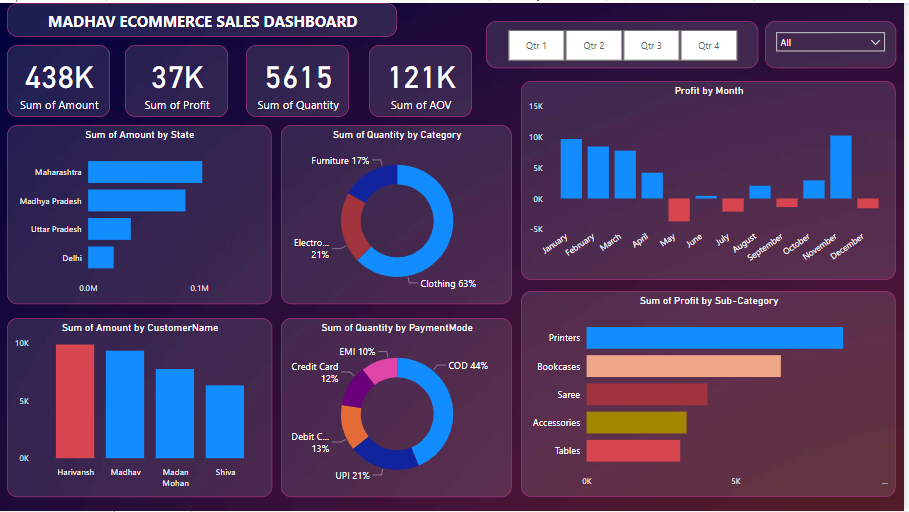

The dashboard page shown, as its layout file describes it:
{"tool":"powerbi","page":{"name":"Page 1","canvas":[1280,720],"ordinal":0},"visuals":[{"type":"textbox","box":[9.9,0,552.8,48.2],"z":0},{"type":"columnChart","title":"Profit by Month","fields":{"Y":["Sum(Details.Profit)"],"Category":["Orders.Order Date.Variation.Date Hierarchy.Month"]},"box":[738.4,110.6,531.5,282],"z":1000},{"type":"barChart","fields":{"Category":["Details.Sub-Category"],"Y":["Sum(Details.Profit)"]},"box":[738.4,408.2,531.5,292],"z":2000},{"type":"donutChart","fields":{"Category":["Details.Category"],"Y":["Sum(Details.Quantity)"]},"box":[398.3,172.9,327.4,253.7],"z":3000},{"type":"donutChart","fields":{"Y":["Sum(Details.Quantity)"],"Category":["Details.PaymentMode"]},"box":[398.3,446.5,327.4,253.7],"z":4000},{"type":"card","fields":{"Values":["Sum(Details.Amount)"]},"box":[9.9,59.5,146,102],"z":5000},{"type":"card","fields":{"Values":["Sum(Details.Profit)"]},"box":[177.2,59.5,146,102],"z":6000},{"type":"card","fields":{"Values":["Sum(Details.Quantity)"]},"box":[348.7,59.5,146,102],"z":7000},{"type":"card","fields":{"Values":["Sum(Details.AOV)"]},"box":[523,59.5,146,102],"z":8000},{"type":"barChart","fields":{"Category":["Orders.State"],"Y":["Sum(Details.Amount)"]},"box":[10.1,173,374.6,253.6],"z":9000},{"type":"columnChart","fields":{"Category":["Orders.CustomerName"],"Y":["Sum(Details.Amount)"]},"box":[9.9,446.5,375.6,253.7],"z":10000},{"type":"slicer","fields":{"Values":["Orders.Order Date.Variation.Date Hierarchy.Quarter"]},"box":[688.8,25.5,385.5,66.6],"z":11000},{"type":"slicer","fields":{"Values":["Orders.State"]},"box":[1084.3,25.5,185.7,66.6],"z":11001}]}

Visuals, with their boxes in screenshot pixels (x1, y1, x2, y2), scaled from the page's 1280x720 canvas onto the 909x512 screenshot:
textbox: <bbox>7, 0, 400, 34</bbox>
"Profit by Month" columnChart: <bbox>524, 79, 902, 279</bbox>
barChart - Details.Sub-Category x Sum(Details.Profit): <bbox>524, 290, 902, 498</bbox>
donutChart - Details.Category x Sum(Details.Quantity): <bbox>283, 123, 515, 303</bbox>
donutChart - Sum(Details.Quantity) x Details.PaymentMode: <bbox>283, 318, 515, 498</bbox>
card - Sum(Details.Amount): <bbox>7, 42, 111, 115</bbox>
card - Sum(Details.Profit): <bbox>126, 42, 230, 115</bbox>
card - Sum(Details.Quantity): <bbox>248, 42, 351, 115</bbox>
card - Sum(Details.AOV): <bbox>371, 42, 475, 115</bbox>
barChart - Orders.State x Sum(Details.Amount): <bbox>7, 123, 273, 303</bbox>
columnChart - Orders.CustomerName x Sum(Details.Amount): <bbox>7, 318, 274, 498</bbox>
slicer - Orders.Order Date.Variation.Date Hierarchy.Quarter: <bbox>489, 18, 763, 65</bbox>
slicer - Orders.State: <bbox>770, 18, 902, 65</bbox>
